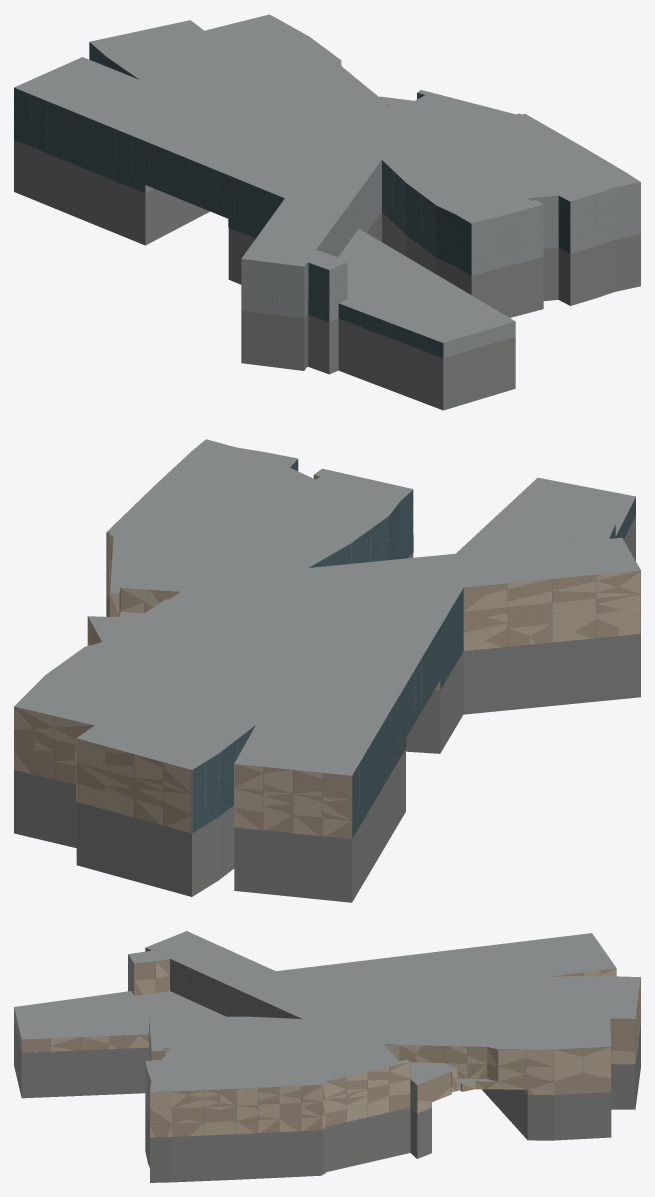
The model's file is federation-east.glb.
3 views of the same model, one above another, from view 1: azimuth 30°, elevation 25°; view 2: azimuth 150°, elevation 25°; view 3: azimuth 270°, elevation 25° (orthographic). The views are drawn at different scales.
Parts seen in each view (by area): view 1: structure_816359_clean_envelope, federation_east_panels_3, federation_east_panels_2; view 2: structure_816359_clean_envelope, federation_east_panels_0, federation_east_panels_1, federation_east_panels_3; view 3: structure_816359_clean_envelope, federation_east_panels_1, federation_east_panels_0, federation_east_panels_2.
Boxes of the visible parts, <box> form: structure_816359_clean_envelope: <box>14,14,640,410</box>; federation_east_panels_3: <box>14,42,570,357</box>; federation_east_panels_2: <box>145,104,640,357</box>; structure_816359_clean_envelope: <box>14,439,640,902</box>; federation_east_panels_0: <box>14,486,640,836</box>; federation_east_panels_1: <box>14,451,639,839</box>; federation_east_panels_3: <box>119,459,635,838</box>; structure_816359_clean_envelope: <box>14,931,640,1182</box>; federation_east_panels_1: <box>21,959,640,1137</box>; federation_east_panels_0: <box>35,962,640,1137</box>; federation_east_panels_2: <box>14,948,527,1122</box>.
Size of the model in its own units: 91.13 by 24 by 150.
